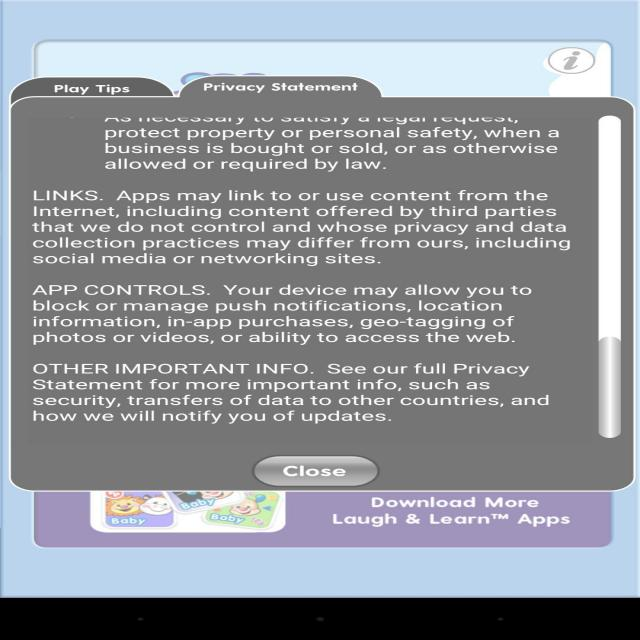button: (240, 448, 402, 490)
text: (21, 178, 586, 266), (17, 272, 576, 356), (25, 359, 592, 430), (84, 103, 584, 177)
